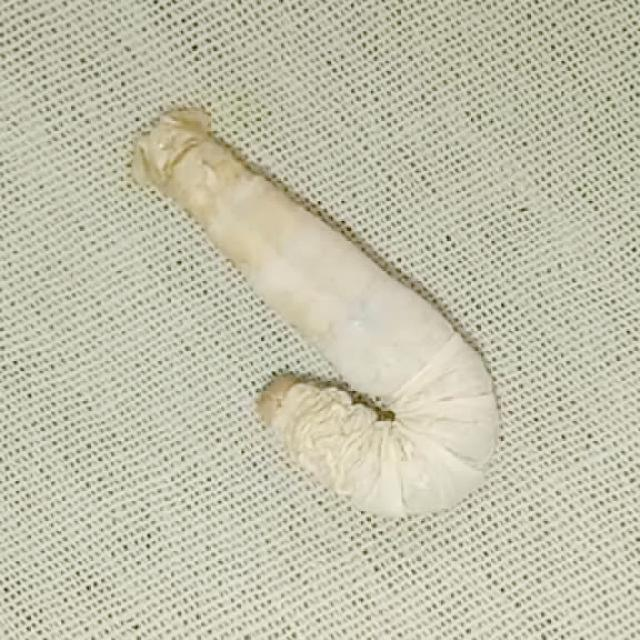Grasserie: (96, 87, 530, 530)
